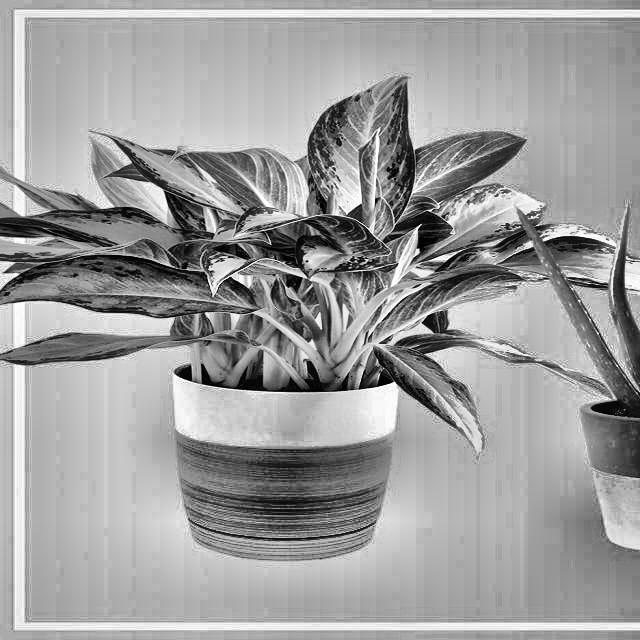plants: (52, 100, 502, 570), (512, 210, 640, 570)
